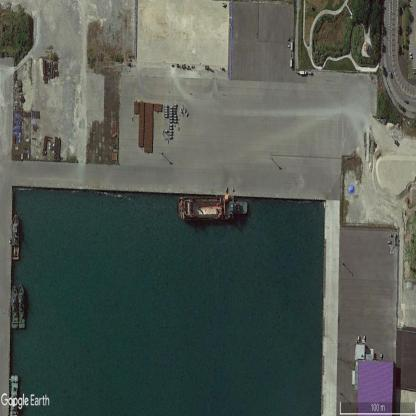ship: (176, 197, 247, 220), (10, 285, 18, 329), (18, 284, 26, 328), (13, 213, 19, 258)
